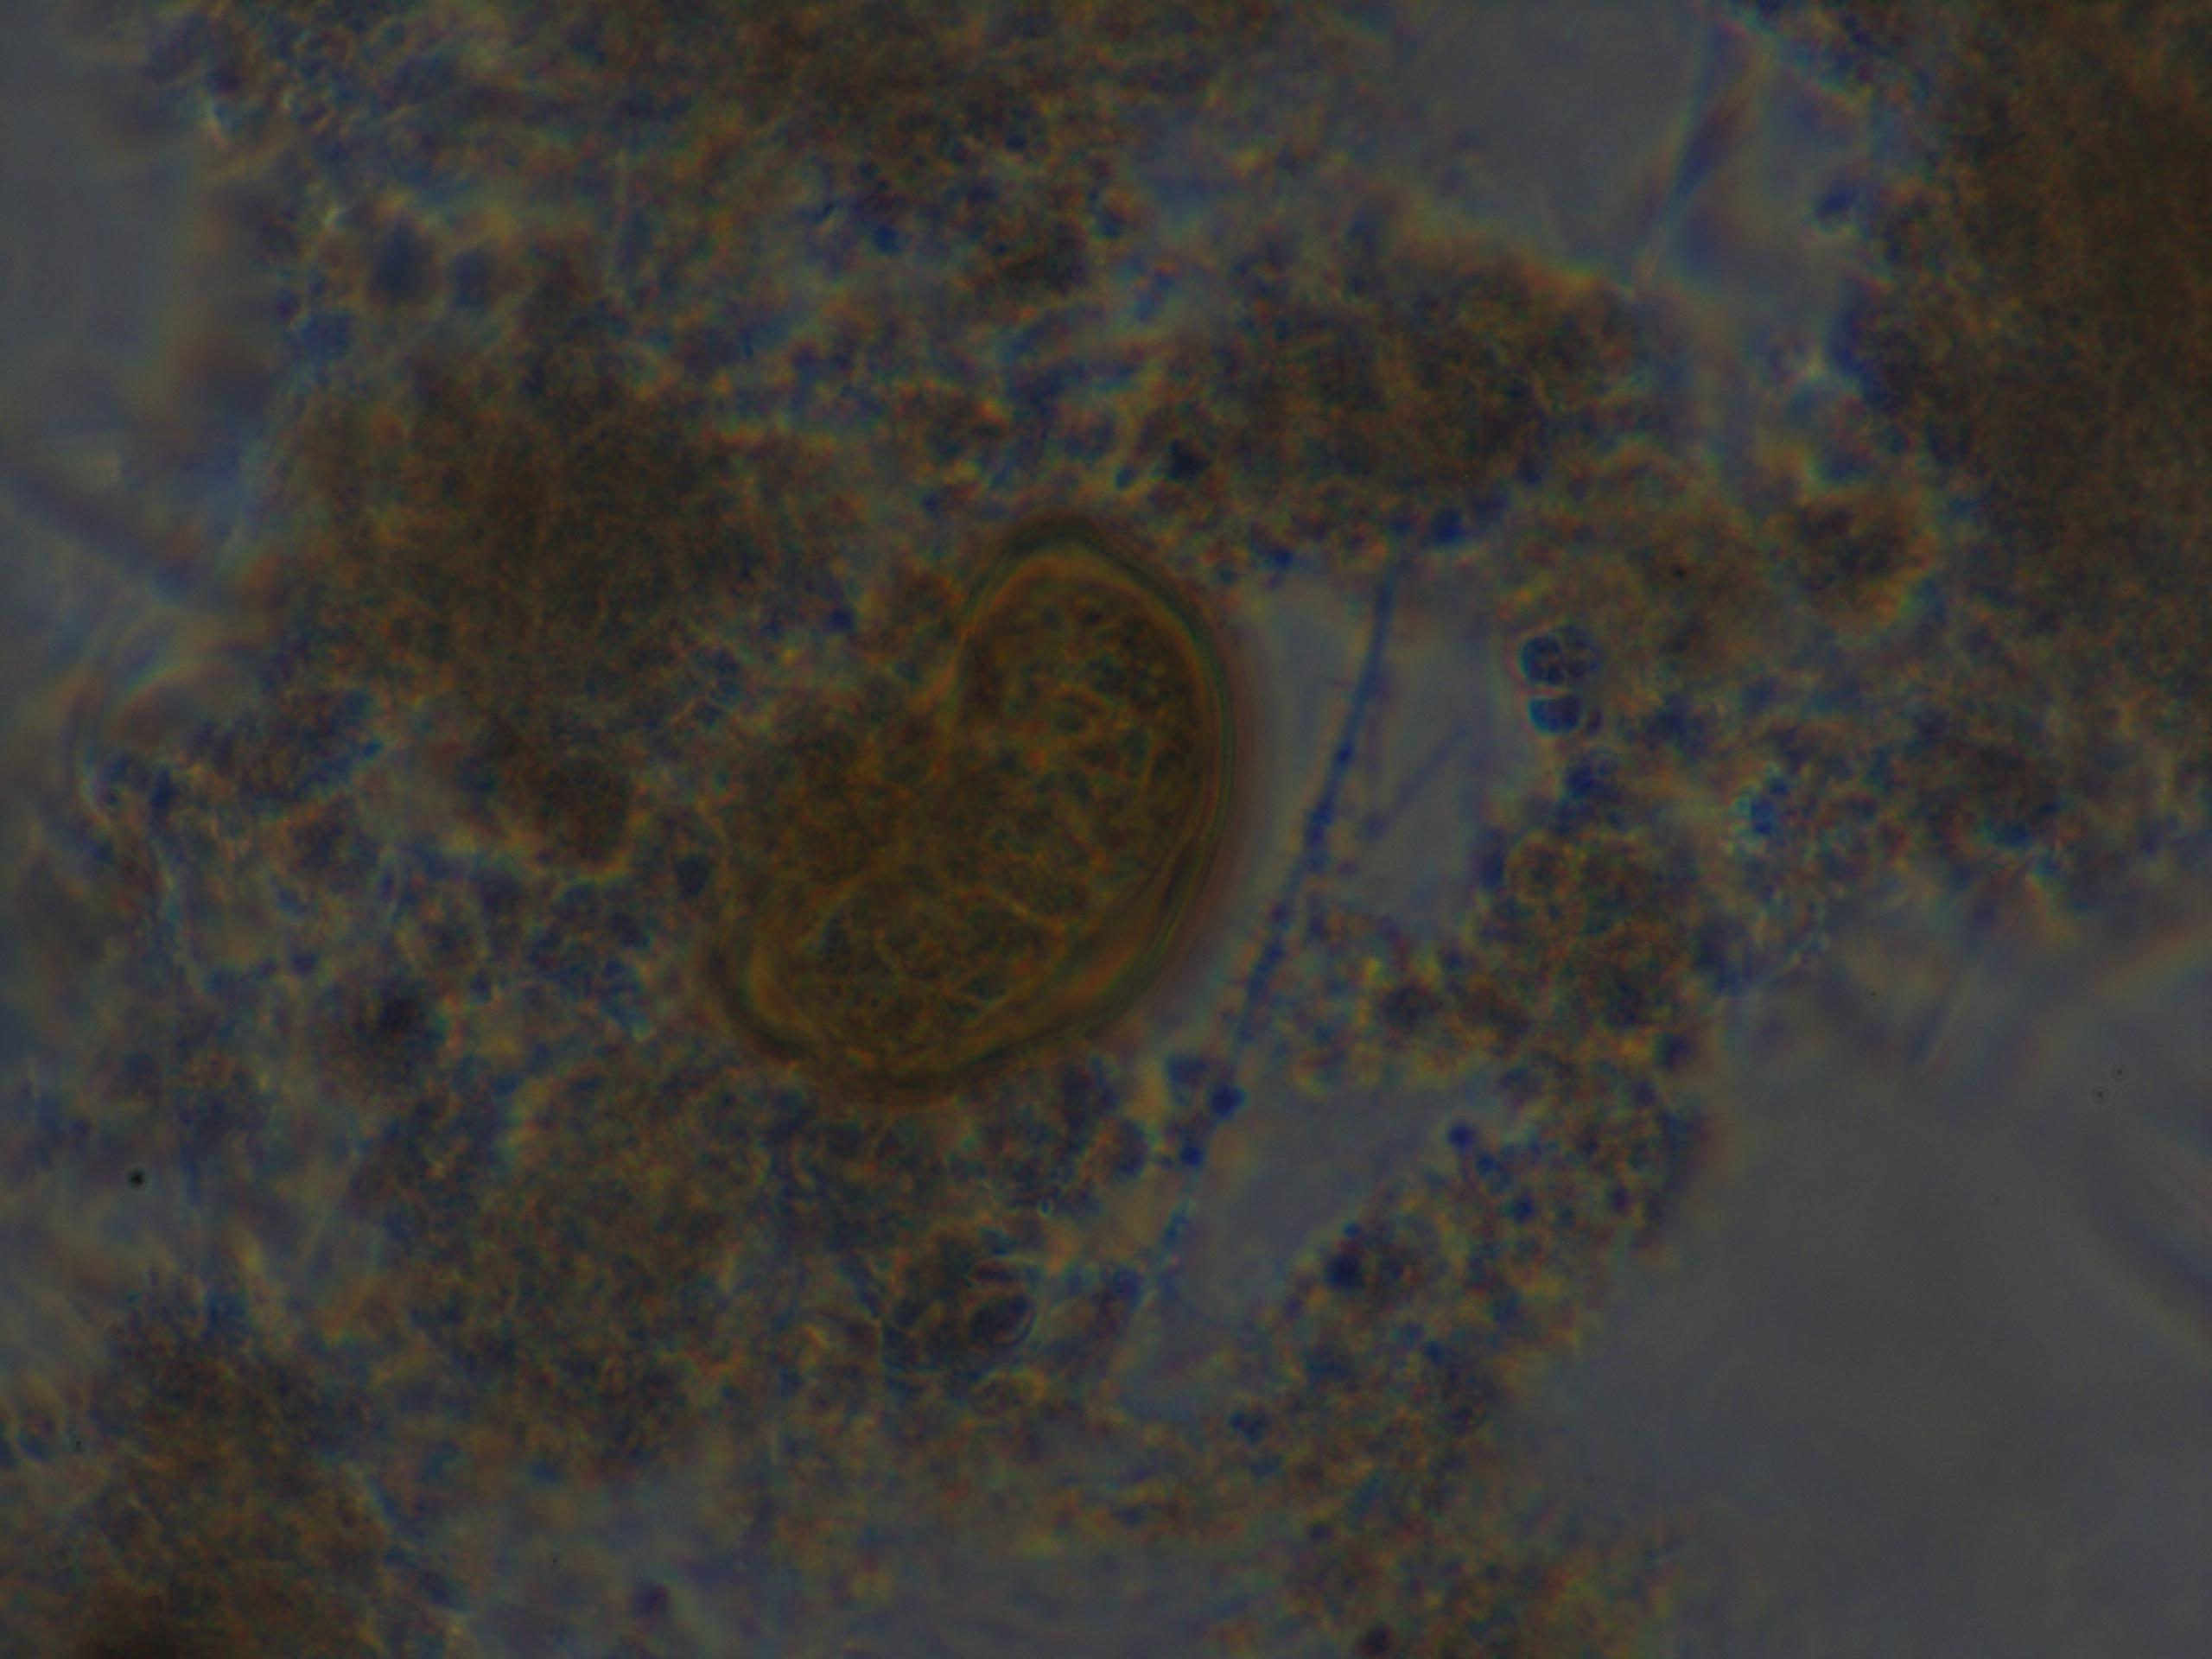filament: (1190, 568, 1407, 1190)
protozoa: (712, 530, 1217, 1096)
